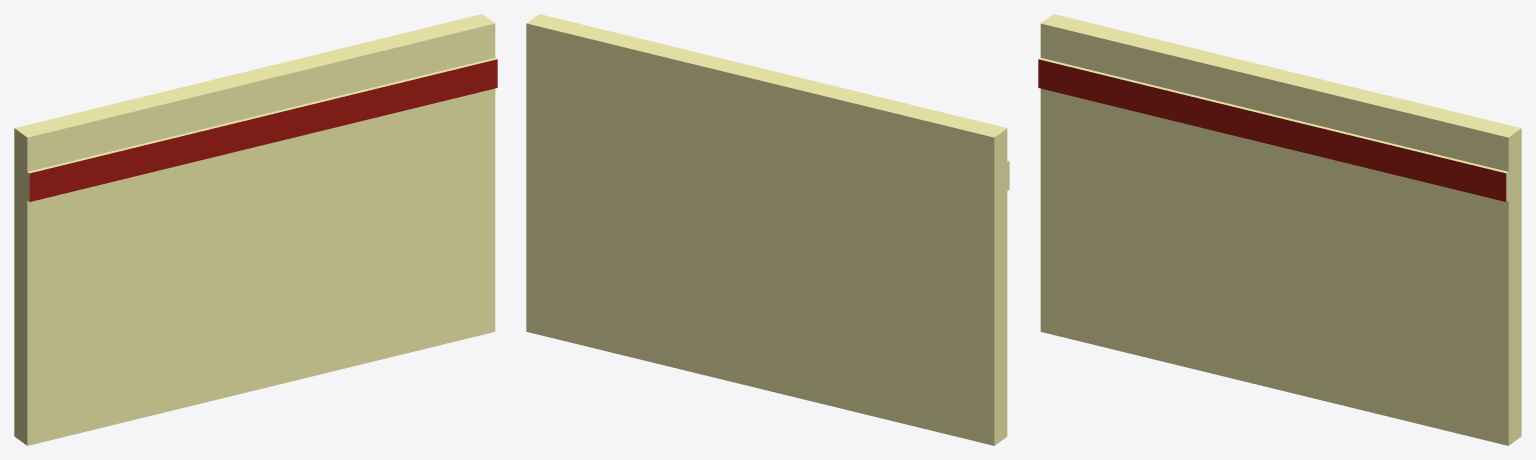
Rendered from house.glb.
3 renders of one model, left to right at view 1: azimuth 30°, elevation 25°; view 2: azimuth 150°, elevation 25°; view 3: azimuth 330°, elevation 25°, orthographic.
Visible parts, largest first — view 1: Plane; view 2: Plane; view 3: Plane.
Boxes of the visible parts, <box> form: Plane: <box>14,14,497,445</box>; Plane: <box>526,14,1009,445</box>; Plane: <box>1038,14,1521,445</box>.
Size of the model in its own units: 9.41 by 5.93 by 0.5235.
